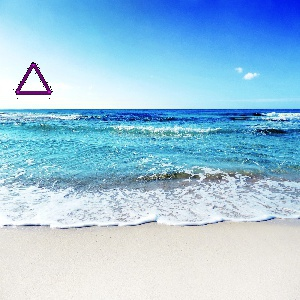triangle: (12, 61, 54, 97)
